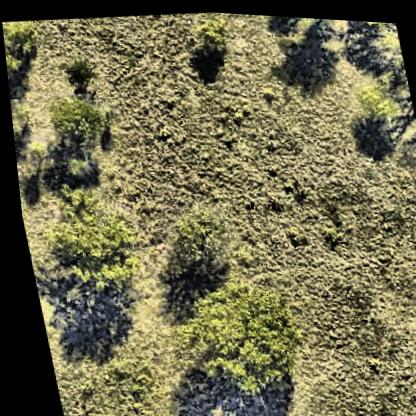tree-top: (167, 266, 302, 397), (23, 180, 142, 309), (156, 212, 225, 277), (39, 87, 104, 146), (347, 75, 404, 128), (1, 18, 43, 77), (366, 19, 405, 73), (188, 11, 233, 53), (51, 147, 94, 185), (60, 56, 95, 87)
